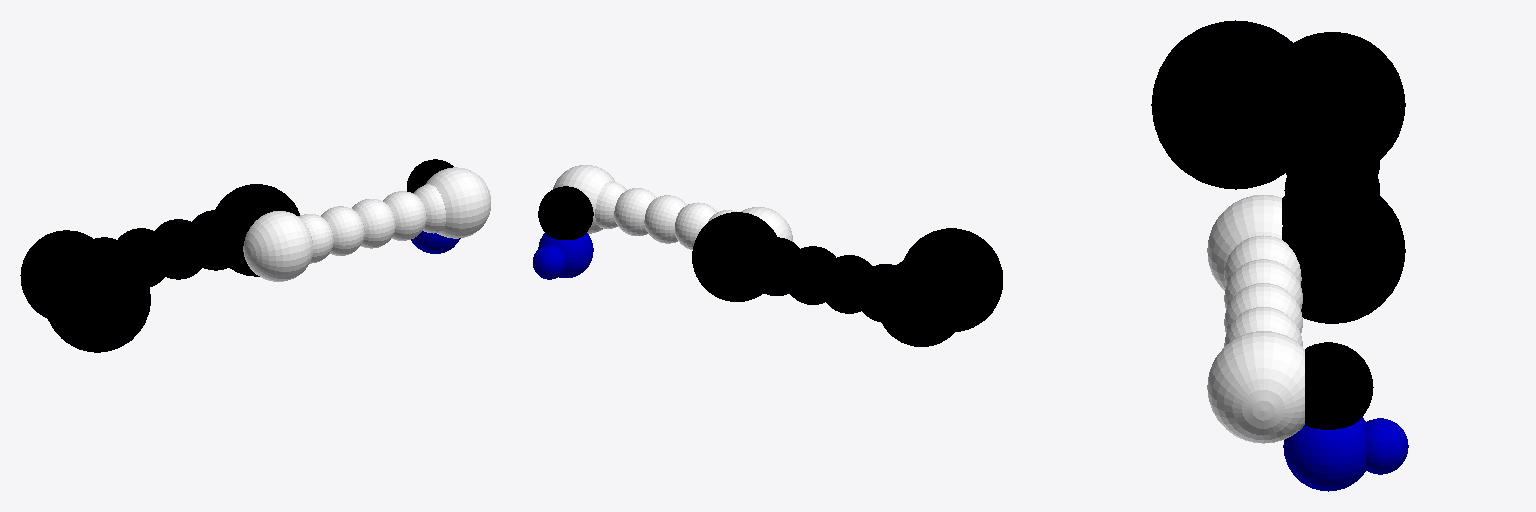
The robot description file, URDF, robot "ur10":
<?xml version="1.0" ?>
<!-- =================================================================================== -->
<!-- |    This document was autogenerated by xacro from urdf/ur10_robot.urdf.xacro     | -->
<!-- |    EDITING THIS FILE BY HAND IS NOT RECOMMENDED                                 | -->
<!-- =================================================================================== -->
<robot name="ur10" xmlns:xacro="http://www.ros.org/wiki/xacro">
    <material name="Red">
        <color rgba="0.8 0.0 0.0 1.0"/>
    </material>
    <material name="Blue">
        <color rgba="0.0 0.0 0.8 1.0"/>
    </material>
    <material name="White">
        <color rgba="1.0 1.0 1.0 1.0"/>
    </material>
    <material name="Black">
        <color rgba="0.0 0.0 0.0 1.0"/>
    </material>
  <!-- common stuff -->
  <gazebo>
    <plugin filename="libgazebo_ros_control.so" name="ros_control">
      <!--robotNamespace>/</robotNamespace-->
      <!--robotSimType>gazebo_ros_control/DefaultRobotHWSim</robotSimType-->
    </plugin>
    <!--
    <plugin name="gazebo_ros_power_monitor_controller" filename="libgazebo_ros_power_monitor.so">
      <alwaysOn>true</alwaysOn>
      <updateRate>1.0</updateRate>
      <timeout>5</timeout>
      <powerStateTopic>power_state</powerStateTopic>
      <powerStateRate>10.0</powerStateRate>
      <fullChargeCapacity>87.78</fullChargeCapacity>
      <dischargeRate>-474</dischargeRate>
      <chargeRate>525</chargeRate>
      <dischargeVoltage>15.52</dischargeVoltage>
      <chargeVoltage>16.41</chargeVoltage>
    </plugin>
-->
  </gazebo>
  <!-- ur10 -->
  <!-- arm -->
  <link name="base_link">
    <visual>
      <geometry>
        <mesh filename="package://meshes/ur10/visual/Base.dae"/>
      </geometry>
    </visual>
    <collision>
      <geometry>
        <mesh filename="package://meshes/ur10/collision/Base.dae"/>
      </geometry>
    </collision>
    <inertial>
      <mass value="4.0"/>
      <origin rpy="0 0 0" xyz="0.0 0.0 0.0"/>
      <inertia ixx="0.0061063308908" ixy="0.0" ixz="0.0" iyy="0.0061063308908" iyz="0.0" izz="0.01125"/>
    </inertial>
  </link>
  <joint name="shoulder_pan_joint" type="revolute">
    <parent link="base_link"/>
    <child link="shoulder_link"/>
    <origin rpy="0.0 0.0 0.0" xyz="0.0 0.0 0.1273"/>
    <axis xyz="0 0 1"/>
    <limit effort="330.0" lower="-6.2831853" upper="6.2831853" velocity="2.16"/>
    <dynamics damping="0.0" friction="0.0"/>
  </joint>
  <link name="shoulder_link">
    <visual>
      <geometry>
        <mesh filename="package://meshes/ur10/visual/Shoulder.dae"/>
      </geometry>
    </visual>
    <collision>
      <geometry>
        <mesh filename="package://meshes/ur10/collision/Shoulder.dae"/>
      </geometry>
    </collision>
    <visual name="ball_0">
      <origin xyz="0.0 -0.0 0.0" rpy="0.0 -0.0 0.0"/>
      <geometry>
        <sphere radius="0.15"/>
      </geometry>
      <material name="Black"/>
    </visual>
    <inertial>
      <mass value="7.778"/>
      <origin rpy="0 0 0" xyz="0.0 0.0 0.0"/>
      <inertia ixx="0.0314743125769" ixy="0.0" ixz="0.0" iyy="0.0314743125769" iyz="0.0" izz="0.021875625"/>
    </inertial>
  </link>
  <joint name="shoulder_lift_joint" type="revolute">
    <parent link="shoulder_link"/>
    <child link="upper_arm_link"/>
    <origin rpy="0.0 1.570796325 0.0" xyz="0.0 0.220941 0.0"/>
    <axis xyz="0 1 0"/>
    <limit effort="330.0" lower="-6.2831853" upper="6.2831853" velocity="2.16"/>
    <dynamics damping="0.0" friction="0.0"/>
  </joint>
  <link name="upper_arm_link">
    <visual>
      <geometry>
        <mesh filename="package://meshes/ur10/visual/UpperArm.dae"/>
      </geometry>
    </visual>
    <collision>
      <geometry>
        <mesh filename="package://meshes/ur10/collision/UpperArm.dae"/>
      </geometry>
    </collision>
    <visual name="ball_0">
      <origin xyz="0.0 -0.05 0.0" rpy="0.0 -0.0 0.0"/>
      <geometry>
        <sphere radius="0.13"/>
      </geometry>
      <material name="Black"/>
    </visual>
    <visual name="ball_1">
      <origin xyz="0.0 -0.05 0.12" rpy="0.0 -0.0 0.0"/>
      <geometry>
        <sphere radius="0.085"/>
      </geometry>
      <material name="Black"/>
    </visual>
    <visual name="ball_2">
      <origin xyz="0.0 -0.05 0.24" rpy="0.0 -0.0 0.0"/>
      <geometry>
        <sphere radius="0.085"/>
      </geometry>
      <material name="Black"/>
    </visual>
    <visual name="ball_3">
      <origin xyz="0.0 -0.05 0.36" rpy="0.0 -0.0 0.0"/>
      <geometry>
        <sphere radius="0.085"/>
      </geometry>
      <material name="Black"/>
    </visual>
    <visual name="ball_4">
      <origin xyz="0.0 -0.05 0.48" rpy="0.0 -0.0 0.0"/>
      <geometry>
        <sphere radius="0.085"/>
      </geometry>
      <material name="Black"/>
    </visual>
    <visual name="ball_5">
      <origin xyz="0.0 -0.05 0.612" rpy="0.0 -0.0 0.0"/>
      <geometry>
        <sphere radius="0.13"/>
      </geometry>
      <material name="Black"/>
    </visual>
    <inertial>
      <mass value="12.93"/>
      <origin rpy="0 0 0" xyz="0.0 0.0 0.306"/>
      <inertia ixx="0.421753803798" ixy="0.0" ixz="0.0" iyy="0.421753803798" iyz="0.0" izz="0.036365625"/>
    </inertial>
  </link>
  <joint name="elbow_joint" type="revolute">
    <parent link="upper_arm_link"/>
    <child link="forearm_link"/>
    <origin rpy="0.0 0.0 0.0" xyz="0.0 -0.1719 0.612"/>
    <axis xyz="0 1 0"/>
    <limit effort="150.0" lower="-6.2831853" upper="6.2831853" velocity="3.15"/>
    <dynamics damping="0.0" friction="0.0"/>
  </joint>
  <link name="forearm_link">
    <visual>
      <geometry>
        <mesh filename="package://meshes/ur10/visual/Forearm.dae"/>
      </geometry>
    </visual>
    <collision>
      <geometry>
        <mesh filename="package://meshes/ur10/collision/Forearm.dae"/>
      </geometry>
    </collision>
    <visual name="ball_0">
      <origin xyz="0.0 0.0 0.0" rpy="0.0 -0.0 0.0"/>
      <geometry>
        <sphere radius="0.1"/>
      </geometry>
      <material name="White"/>
    </visual>
    <visual name="ball_1">
      <origin xyz="0.0 -0.0 0.1" rpy="0.0 -0.0 0.0"/>
      <geometry>
        <sphere radius="0.07"/>
      </geometry>
      <material name="White"/>
    </visual>
    <visual name="ball_2">
      <origin xyz="0.0 -0.0 0.2" rpy="0.0 -0.0 0.0"/>
      <geometry>
        <sphere radius="0.07"/>
      </geometry>
      <material name="White"/>
    </visual>
    <visual name="ball_3">
      <origin xyz="0.0 -0.0 0.3" rpy="0.0 -0.0 0.0"/>
      <geometry>
        <sphere radius="0.07"/>
      </geometry>
      <material name="White"/>
    </visual>
    <visual name="ball_4">
      <origin xyz="0.0 -0.0 0.4" rpy="0.0 -0.0 0.0"/>
      <geometry>
        <sphere radius="0.07"/>
      </geometry>
      <material name="White"/>
    </visual>
    <visual name="ball_5">
      <origin xyz="0.0 -0.0 0.5" rpy="0.0 -0.0 0.0"/>
      <geometry>
        <sphere radius="0.07"/>
      </geometry>
      <material name="White"/>
    </visual>
    <visual name="ball_6">
      <origin xyz="0.0 -0.0 0.5723" rpy="0.0 -0.0 0.0"/>
      <geometry>
        <sphere radius="0.1"/>
      </geometry>
      <material name="White"/>
    </visual>
    <inertial>
      <mass value="3.87"/>
      <origin rpy="0 0 0" xyz="0.0 0.0 0.28615"/>
      <inertia ixx="0.111069694097" ixy="0.0" ixz="0.0" iyy="0.111069694097" iyz="0.0" izz="0.010884375"/>
    </inertial>
  </link>
  <joint name="wrist_1_joint" type="revolute">
    <parent link="forearm_link"/>
    <child link="wrist_1_link"/>
    <origin rpy="0.0 1.570796325 0.0" xyz="0.0 0.0 0.5723"/>
    <axis xyz="0 1 0"/>
    <limit effort="54.0" lower="-6.2831853" upper="6.2831853" velocity="3.2"/>
    <dynamics damping="0.0" friction="0.0"/>
  </joint>
  <link name="wrist_1_link">
    <visual>
      <geometry>
        <mesh filename="package://meshes/ur10/visual/Wrist1.dae"/>
      </geometry>
    </visual>
    <collision>
      <geometry>
        <mesh filename="package://meshes/ur10/collision/Wrist1.dae"/>
      </geometry>
    </collision>
    
    <inertial>
      <mass value="1.96"/>
      <origin rpy="0 0 0" xyz="0.0 0.0 0.0"/>
      <inertia ixx="0.0051082479567" ixy="0.0" ixz="0.0" iyy="0.0051082479567" iyz="0.0" izz="0.0055125"/>
    </inertial>
  </link>
  <joint name="wrist_2_joint" type="revolute">
    <parent link="wrist_1_link"/>
    <child link="wrist_2_link"/>
    <origin rpy="0.0 0.0 0.0" xyz="0.0 0.1149 0.0"/>
    <axis xyz="0 0 1"/>
    <limit effort="54.0" lower="-6.2831853" upper="6.2831853" velocity="3.2"/>
    <dynamics damping="0.0" friction="0.0"/>
  </joint>
  <link name="wrist_2_link">
    <visual>
      <geometry>
        <mesh filename="package://meshes/ur10/visual/Wrist2.dae"/>
      </geometry>
    </visual>
    <collision>
      <geometry>
        <mesh filename="package://meshes/ur10/collision/Wrist2.dae"/>
      </geometry>
    </collision>
    <visual name="ball_0">
      <origin xyz="0.0 -0.0 0.0" rpy="0.0 -0.0 0.0"/>
      <geometry>
        <sphere radius="0.08"/>
      </geometry>
      <material name="Black"/>
    </visual>
    <inertial>
      <mass value="1.96"/>
      <origin rpy="0 0 0" xyz="0.0 0.0 0.0"/>
      <inertia ixx="0.0051082479567" ixy="0.0" ixz="0.0" iyy="0.0051082479567" iyz="0.0" izz="0.0055125"/>
    </inertial>
  </link>
  <joint name="wrist_3_joint" type="revolute">
    <parent link="wrist_2_link"/>
    <child link="wrist_3_link"/>
    <origin rpy="0.0 0.0 0.0" xyz="0.0 0.0 0.1157"/>
    <axis xyz="0 1 0"/>
    <limit effort="54.0" lower="-6.2831853" upper="6.2831853" velocity="3.2"/>
    <dynamics damping="0.0" friction="0.0"/>
  </joint>
  <link name="wrist_3_link">
    <visual>
      <geometry>
        <mesh filename="package://meshes/ur10/visual/Wrist3.dae"/>
      </geometry>
    </visual>
    <collision>
      <geometry>
        <mesh filename="package://meshes/ur10/collision/Wrist3.dae"/>
      </geometry>
    </collision>
    <visual name="ball_0">
      <origin xyz="0.0 -0.0 0.0" rpy="0.0 -0.0 0.0"/>
      <geometry>
        <sphere radius="0.08"/>
      </geometry>
      <material name="Blue"/>
    </visual>
    <visual name="ball_1">
      <origin xyz="0.0 0.0922 0.0" rpy="0.0 -0.0 0.0"/>
      <geometry>
        <sphere radius="0.05"/>
      </geometry>
      <material name="Blue"/>
    </visual>
    <inertial>
      <mass value="0.202"/>
      <origin rpy="0 0 0" xyz="0.0 0.0 0.0"/>
      <inertia ixx="0.000526462289415" ixy="0.0" ixz="0.0" iyy="0.000526462289415" iyz="0.0" izz="0.000568125"/>
    </inertial>
  </link>
  <joint name="ee_fixed_joint" type="fixed">
    <parent link="wrist_3_link"/>
    <child link="ee_link"/>
    <origin rpy="0.0 0.0 1.570796325" xyz="0.0 0.0922 0.0"/>
  </joint>
  <link name="ee_link"/>
  <transmission name="shoulder_pan_trans">
    <type>transmission_interface/SimpleTransmission</type>
    <joint name="shoulder_pan_joint"/>
    <actuator name="shoulder_pan_motor">
      <hardwareInterface>EffortJointInterface</hardwareInterface>
      <mechanicalReduction>1</mechanicalReduction>
    </actuator>
  </transmission>
  <transmission name="shoulder_lift_trans">
    <type>transmission_interface/SimpleTransmission</type>
    <joint name="shoulder_lift_joint"/>
    <actuator name="shoulder_lift_motor">
      <hardwareInterface>EffortJointInterface</hardwareInterface>
      <mechanicalReduction>1</mechanicalReduction>
    </actuator>
  </transmission>
  <transmission name="elbow_trans">
    <type>transmission_interface/SimpleTransmission</type>
    <joint name="elbow_joint"/>
    <actuator name="elbow_motor">
      <hardwareInterface>EffortJointInterface</hardwareInterface>
      <mechanicalReduction>1</mechanicalReduction>
    </actuator>
  </transmission>
  <transmission name="wrist_1_trans">
    <type>transmission_interface/SimpleTransmission</type>
    <joint name="wrist_1_joint"/>
    <actuator name="wrist_1_motor">
      <hardwareInterface>EffortJointInterface</hardwareInterface>
      <mechanicalReduction>1</mechanicalReduction>
    </actuator>
  </transmission>
  <transmission name="wrist_2_trans">
    <type>transmission_interface/SimpleTransmission</type>
    <joint name="wrist_2_joint"/>
    <actuator name="wrist_2_motor">
      <hardwareInterface>EffortJointInterface</hardwareInterface>
      <mechanicalReduction>1</mechanicalReduction>
    </actuator>
  </transmission>
  <transmission name="wrist_3_trans">
    <type>transmission_interface/SimpleTransmission</type>
    <joint name="wrist_3_joint"/>
    <actuator name="wrist_3_motor">
      <hardwareInterface>EffortJointInterface</hardwareInterface>
      <mechanicalReduction>1</mechanicalReduction>
    </actuator>
  </transmission>
  <link name="world"/>
  <joint name="world_joint" type="fixed">
    <parent link="world"/>
    <child link="base_link"/>
    <origin rpy="0.0 0.0 0.0" xyz="0.0 0.0 0.0"/>
  </joint>
</robot>

--- What the picture shows (computed from the rendered views, not written in the file) ---
The picture shows the robot from 3 angles, left to right: view 1: azimuth 30°, elevation 25°; view 2: azimuth 150°, elevation 25°; view 3: azimuth 270°, elevation 25°; orthographic projection.
Model ur10 with 9 links and 8 joints (6 revolute, 2 fixed), rooted at world, posed all joints at 0.
Visible links, largest first — view 1: forearm_link, upper_arm_link, shoulder_link, wrist_2_link, wrist_3_link; view 2: upper_arm_link, forearm_link, shoulder_link, wrist_2_link, wrist_3_link; view 3: upper_arm_link, forearm_link, shoulder_link, wrist_3_link, wrist_2_link.
Boxes of the visible links, x1,y1,x2,y2 form: forearm_link: (243, 167, 490, 281); upper_arm_link: (20, 184, 299, 318); shoulder_link: (44, 245, 150, 352); wrist_2_link: (407, 159, 453, 192); wrist_3_link: (411, 231, 460, 253); upper_arm_link: (692, 212, 966, 346); forearm_link: (553, 165, 792, 249); shoulder_link: (903, 228, 1002, 331); wrist_2_link: (538, 186, 593, 239); wrist_3_link: (533, 233, 593, 279); upper_arm_link: (1282, 32, 1405, 323); forearm_link: (1207, 195, 1304, 443); shoulder_link: (1151, 20, 1293, 189); wrist_3_link: (1283, 417, 1408, 491); wrist_2_link: (1305, 342, 1373, 429).
Size in the robot's own frame: 1.43 by 0.4561 by 0.3457 metres.
Meshes: 7 distinct files referenced, 0 mesh visuals loaded (none loaded); not drawn: 7 (reference not matched to a file when rendering).